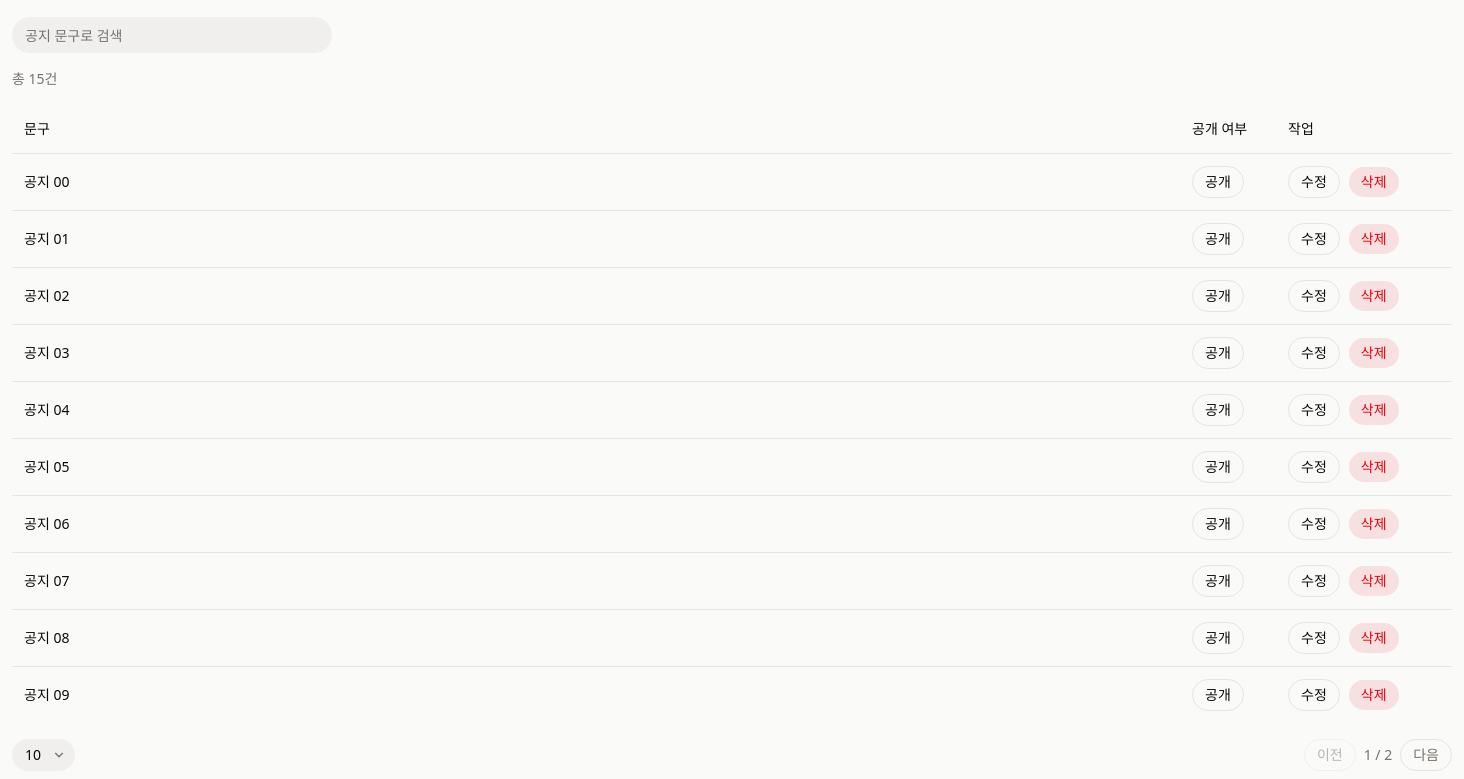
Test: NoticeManagementPage › shows 20 notices per page after choosing the 20 page-size option
Expected: the text "공지 14" is not shown
Select "20" in the dropdown named "페이지당 개수" at {"x": 44, "y": 754}, box [12,738,75,770]
(page scrolled)
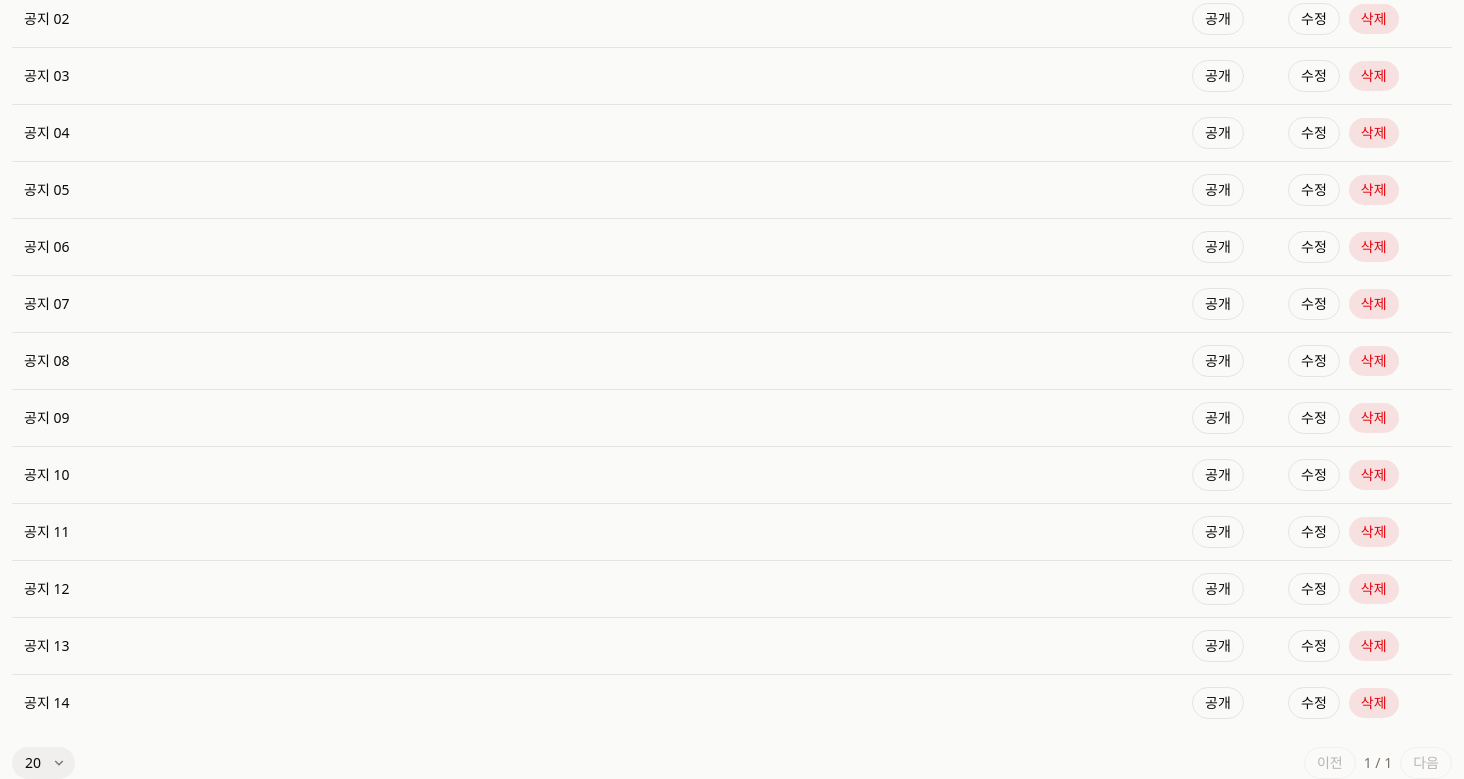
Expected: the text "공지 14" is shown, [12,674,1180,730]
